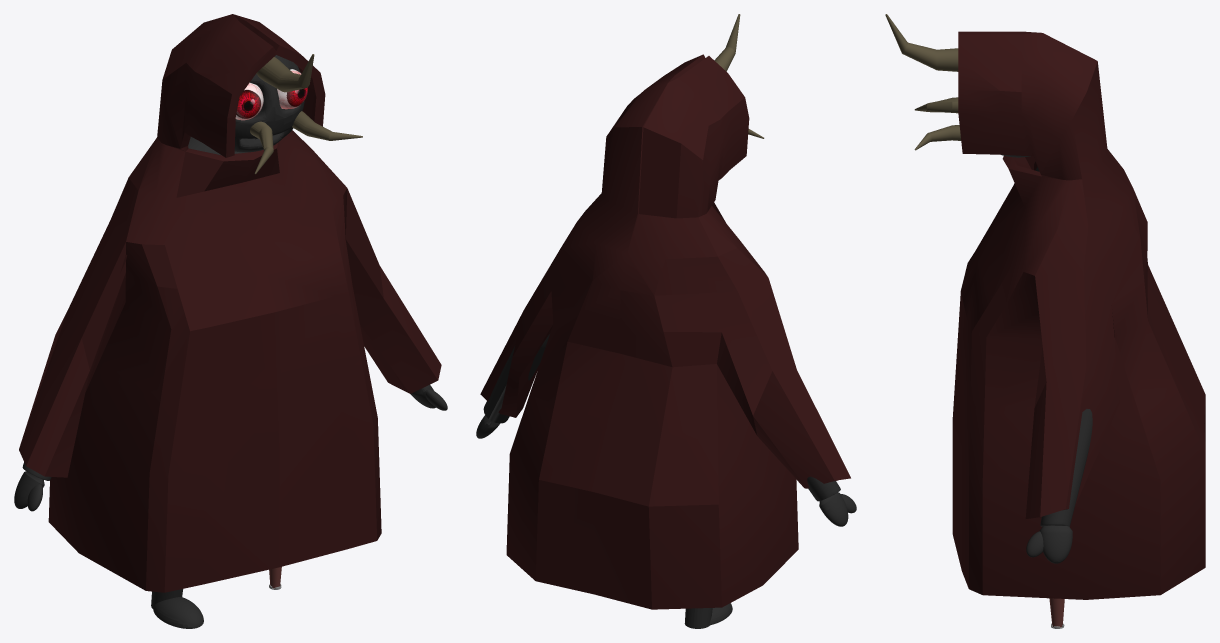
File: papa_fouetar.fbx
The picture shows the model from 3 angles, left to right: view 1: azimuth 30°, elevation 25°; view 2: azimuth 150°, elevation 25°; view 3: azimuth 270°, elevation 25°; orthographic projection. The views are drawn at different scales.
Visible parts, largest first — view 1: bras.001; view 2: bras.001; view 3: bras.001.
Boxes of the visible parts, x1,y1,x2,y2 form: bras.001: [14, 14, 447, 628]; bras.001: [476, 14, 856, 628]; bras.001: [885, 14, 1205, 628].
Bounding box in the file's own units: 317 × 441 × 217.
